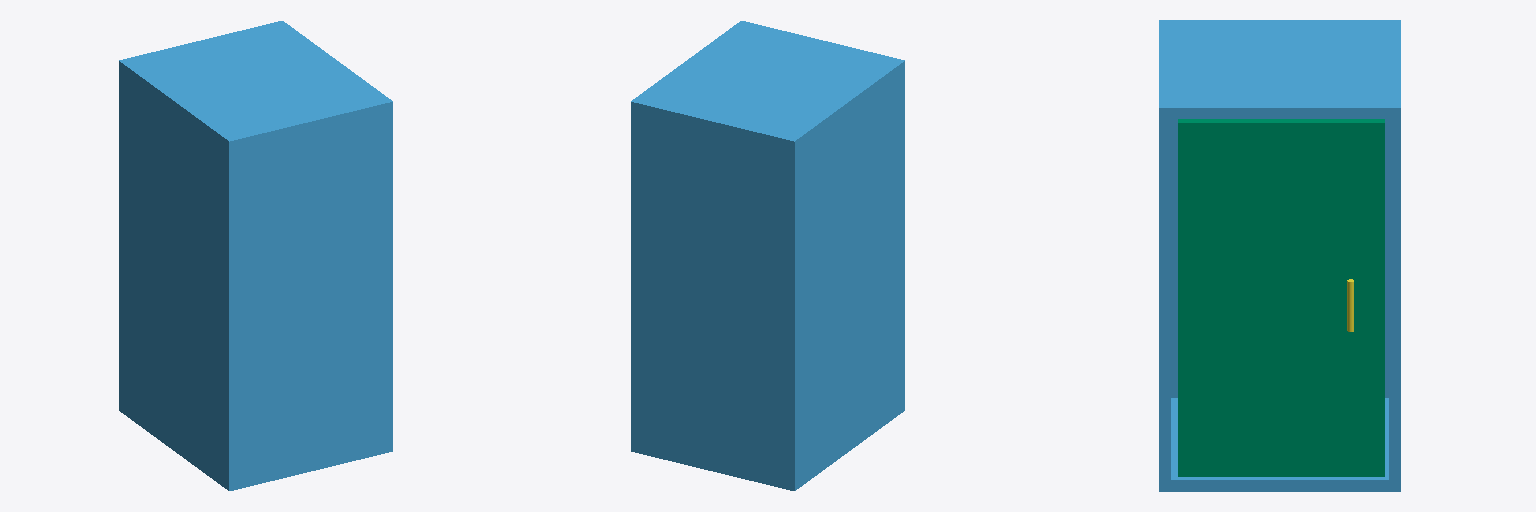
robot.urdf — my_cabinet:
<?xml version="1.0" ?>
<robot name="my_cabinet">
	<link name="world"/>
	<joint name="virtual_joint" type="fixed">
		<parent link="world"/>
		<child link="base_cabinet_link"/>
		<origin xyz="0.0 0.0 0.0" rpy="0.0 0.0 0.0"/>
	</joint>
	<link name="base_cabinet_link">
		<visual>
			<origin xyz="0.0 -0.0025 -0.29675393511855735" rpy="0.0 0.0 0.0"/>
			<geometry>
				<box size="0.3 0.3508260348744846 0.018"/>
			</geometry>
		</visual>
		<collision name="base_cabinet_link_collision_0">
			<origin xyz="0.0 -0.0025 -0.29675393511855735" rpy="0.0 0.0 0.0"/>
			<geometry>
				<box size="0.3 0.3508260348744846 0.018"/>
			</geometry>
		</collision>
		<visual>
			<origin xyz="0.0 0.16391301743724232 0.0" rpy="0.0 0.0 0.0"/>
			<geometry>
				<box size="0.3 0.018 0.6115078702371147"/>
			</geometry>
		</visual>
		<collision name="base_cabinet_link_collision_1">
			<origin xyz="0.0 0.16391301743724232 0.0" rpy="0.0 0.0 0.0"/>
			<geometry>
				<box size="0.3 0.018 0.6115078702371147"/>
			</geometry>
		</collision>
		<visual>
			<origin xyz="0.0 -0.16891301743724232 0.0" rpy="0.0 0.0 0.0"/>
			<geometry>
				<box size="0.3 0.018 0.6115078702371147"/>
			</geometry>
		</visual>
		<collision name="base_cabinet_link_collision_2">
			<origin xyz="0.0 -0.16891301743724232 0.0" rpy="0.0 0.0 0.0"/>
			<geometry>
				<box size="0.3 0.018 0.6115078702371147"/>
			</geometry>
		</collision>
		<visual>
			<origin xyz="0.0 -0.0025 0.29675393511855735" rpy="0.0 0.0 0.0"/>
			<geometry>
				<box size="0.3 0.3508260348744846 0.018"/>
			</geometry>
		</visual>
		<collision name="base_cabinet_link_collision_3">
			<origin xyz="0.0 -0.0025 0.29675393511855735" rpy="0.0 0.0 0.0"/>
			<geometry>
				<box size="0.3 0.3508260348744846 0.018"/>
			</geometry>
		</collision>
		<visual>
			<origin xyz="-0.141 -0.0025 0.0" rpy="0.0 0.0 0.0"/>
			<geometry>
				<box size="0.018 0.3508260348744846 0.6115078702371147"/>
			</geometry>
		</visual>
		<collision name="base_cabinet_link_collision_4">
			<origin xyz="-0.141 -0.0025 0.0" rpy="0.0 0.0 0.0"/>
			<geometry>
				<box size="0.018 0.3508260348744846 0.6115078702371147"/>
			</geometry>
		</collision>
		<inertial>
			<mass value="0.200000"/>
			<inertia ixx="0.008284" ixy="0.0" ixz="0.0" iyy="0.007732" iyz="0.0" izz="0.003551"/>
		</inertial>
	</link>
	<link name="door_link">
		<visual>
			<origin xyz="0.0 -0.1499130174372423 0.0"/>
			<geometry>
				<box size="0.018 0.2998260348744846 0.5655078702371147"/>
			</geometry>
		</visual>
		<collision name="door_link_collision">
			<origin xyz="0.0 -0.1499130174372423 0.0"/>
			<geometry>
				<box size="0.018 0.2998260348744846 0.5655078702371147"/>
			</geometry>
		</collision>
		<inertial>
			<mass value="0.200000"/>
			<inertia ixx="0.006828" ixy="0.0" ixz="0.0" iyy="0.005335" iyz="0.0" izz="0.001504"/>
		</inertial>
	</link>
	<joint name="door_joint" type="revolute">
		<origin xyz="0.141 -0.1499130174372423 0.0" rpy="0.000000 -0.000000 3.141593"/>
		<axis xyz="0 0 1"/>
		<parent link="base_cabinet_link"/>
		<child link="door_link"/>
		<limit effort="50" lower="-1.658062789394613" upper="0" velocity="10"/>
		<dynamics friction="3.5" damping="3.5"/>
	</joint>
	<link name="handle_link">
		<visual>
			<origin xyz="0.0 0.0 0.0" rpy="0.0 0.0 0.0"/>
			<geometry>
				<cylinder length="0.08" radius="0.005"/>
			</geometry>
		</visual>
		<collision name="handle_link_collision_0">
			<origin xyz="0.0 0.0 0.0" rpy="0.0 0.0 0.0"/>
			<geometry>
				<cylinder length="0.08" radius="0.005"/>
			</geometry>
		</collision>
		<visual>
			<origin xyz="-0.01 0.0 0.02" rpy="0.0 1.5707963267948966 0.0"/>
			<geometry>
				<cylinder length="0.02" radius="0.003"/>
			</geometry>
		</visual>
		<collision name="handle_link_collision_1">
			<origin xyz="-0.01 0.0 0.02" rpy="0.0 1.5707963267948966 0.0"/>
			<geometry>
				<cylinder length="0.01" radius="0.003"/>
			</geometry>
		</collision>
		<visual>
			<origin xyz="-0.01 0.0 -0.02" rpy="0.0 1.5707963267948966 0.0"/>
			<geometry>
				<cylinder length="0.02" radius="0.003"/>
			</geometry>
		</visual>
		<collision name="handle_link_collision_2">
			<origin xyz="-0.01 0.0 -0.02" rpy="0.0 1.5707963267948966 0.0"/>
			<geometry>
				<cylinder length="0.02" radius="0.003"/>
			</geometry>
		</collision>
		<inertial>
			<mass value="0.050000"/>
			<inertia ixx="0.000027" ixy="0.0" ixz="0.0" iyy="0.000029" iyz="0.0" izz="0.000003"/>
		</inertial>
	</link>
	<joint name="handle_joint" type="fixed">
		<origin xyz="-0.028999999999999998 -0.24982603487448463 0.0" rpy="0.000000 -0.000000 3.141593"/>
		<parent link="door_link"/>
		<child link="handle_link"/>
	</joint>
	<gazebo reference="base_cabinet_link">
		<sensor name="main_sensor" type="contact">
			<selfCollide>true</selfCollide>
			<alwaysOn>true</alwaysOn>
			<updateRate>5.0</updateRate>
			<material>Gazebo/Red</material>
			<contact>
				<collision>base_cabinet_link_collision_0_collision</collision>
				<collision>base_cabinet_link_collision_1_collision</collision>
				<collision>base_cabinet_link_collision_2_collision</collision>
				<collision>base_cabinet_link_collision_3_collision</collision>
				<collision>base_cabinet_link_collision_4_collision</collision>
			</contact>
			<plugin name="gazebo_ros_bumper_controller" filename="libgazebo_ros_bumper.so">
				<bumperTopicName>/contact</bumperTopicName>
				<frameName>world</frameName>
			</plugin>
		</sensor>
	</gazebo>
	<gazebo reference="door_link">
		<sensor name="main_sensor" type="contact">
			<selfCollide>true</selfCollide>
			<alwaysOn>true</alwaysOn>
			<updateRate>5.0</updateRate>
			<material>Gazebo/Red</material>
			<contact>
				<collision>door_link_collision_collision</collision>
			</contact>
			<plugin name="gazebo_ros_bumper_controller" filename="libgazebo_ros_bumper.so">
				<bumperTopicName>/contact_door</bumperTopicName>
				<frameName>contact_door</frameName>
			</plugin>
		</sensor>
	</gazebo>
	<gazebo reference="door_link">
		<mu>3.0</mu>
		<mu2>3.0</mu2>
		<kp>10000000</kp>
		<kd>100</kd>
	</gazebo>
</robot>

--- Render facts (derived) ---
Views: 3 orthographic renders of the robot side by side, from view 1: azimuth 30°, elevation 25°; view 2: azimuth 150°, elevation 25°; view 3: azimuth 270°, elevation 25°.
Robot: my_cabinet — 4 links, 3 joints (1 revolute, 2 fixed); root link world; default pose: every joint at zero.
Links seen in each view (by area): view 1: base_cabinet_link; view 2: base_cabinet_link; view 3: door_link, base_cabinet_link.
Link boxes in pixels (left/top/right/bottom): base_cabinet_link: left=119, top=21, right=392, bottom=490; base_cabinet_link: left=631, top=21, right=904, bottom=490; door_link: left=1178, top=119, right=1384, bottom=476; base_cabinet_link: left=1159, top=20, right=1400, bottom=491.
Bounding box of the posed robot: 0.325 × 0.3508 × 0.6115 m (x, y, z).
Geometry: primitives only (box / cylinder / sphere), no mesh files.
